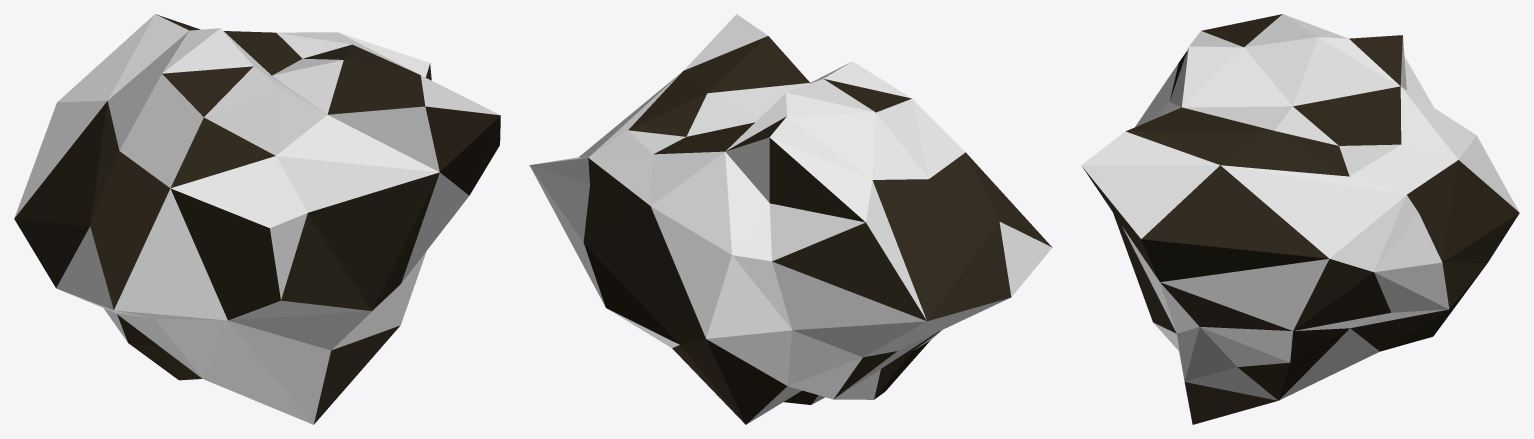
Rendered from ore.fbx.
3 renders of one model, left to right at view 1: azimuth 30°, elevation 25°; view 2: azimuth 150°, elevation 25°; view 3: azimuth 270°, elevation 25°, orthographic. The views are drawn at different scales.
Parts seen in each view (by area): view 1: Cube; view 2: Cube; view 3: Cube.
Part boxes in pixels (<box>): Cube: <box>14,14,500,424</box>; Cube: <box>529,14,1052,424</box>; Cube: <box>1081,14,1519,424</box>.
Size of the model in its own units: 1026 by 812 by 868.
